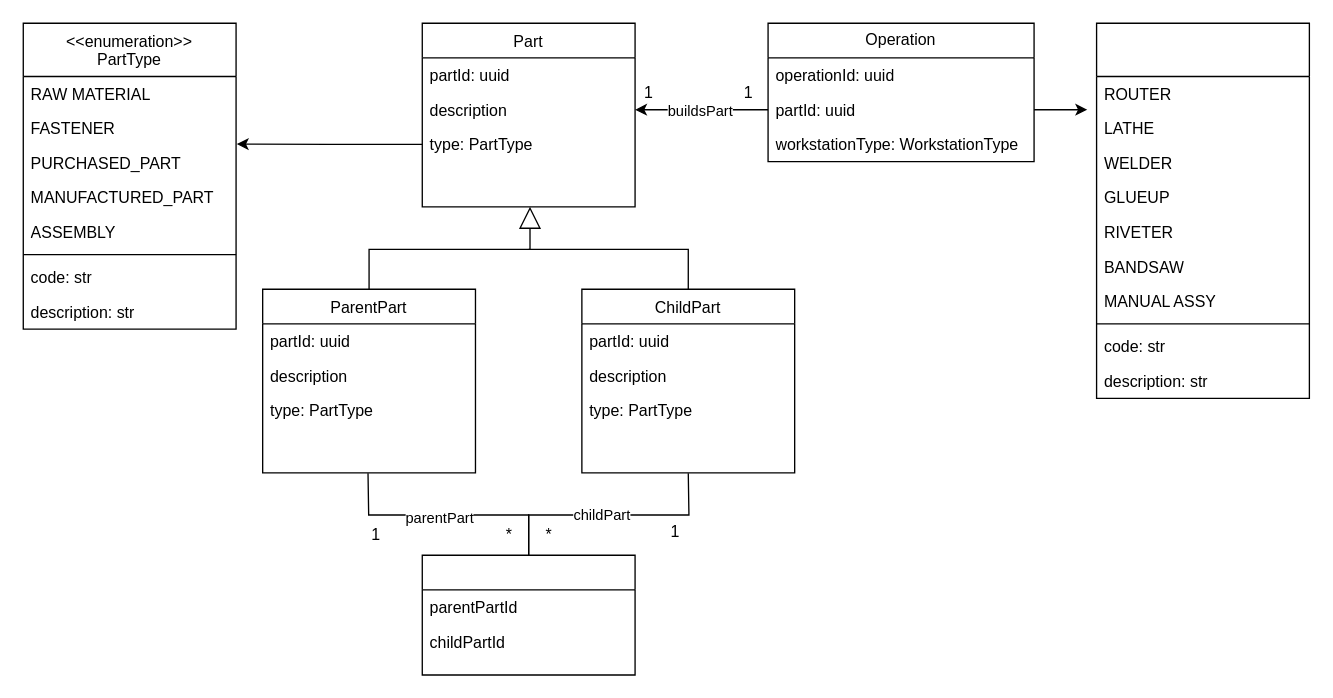
The diagram is 1333 pixels wide and 698 high, and some of its shapes have lost their labels. The box of each missing label's shape, as (x1, y1, x2, y2) in pixels:
<<enumeration>> WorkStationType: (1095, 22, 1309, 398)
BomItem: (421, 554, 635, 675)
